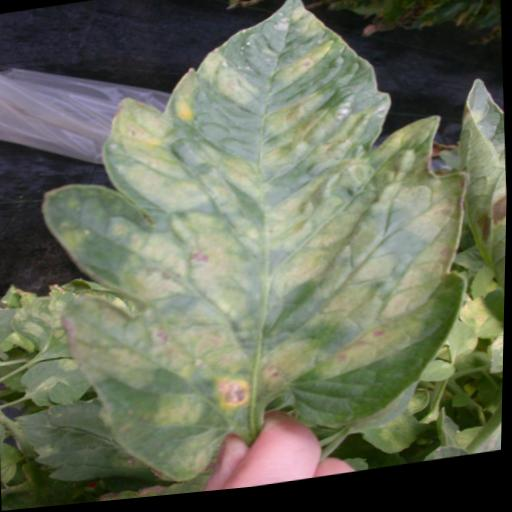Leaf Mold: (28, 0, 480, 505)
